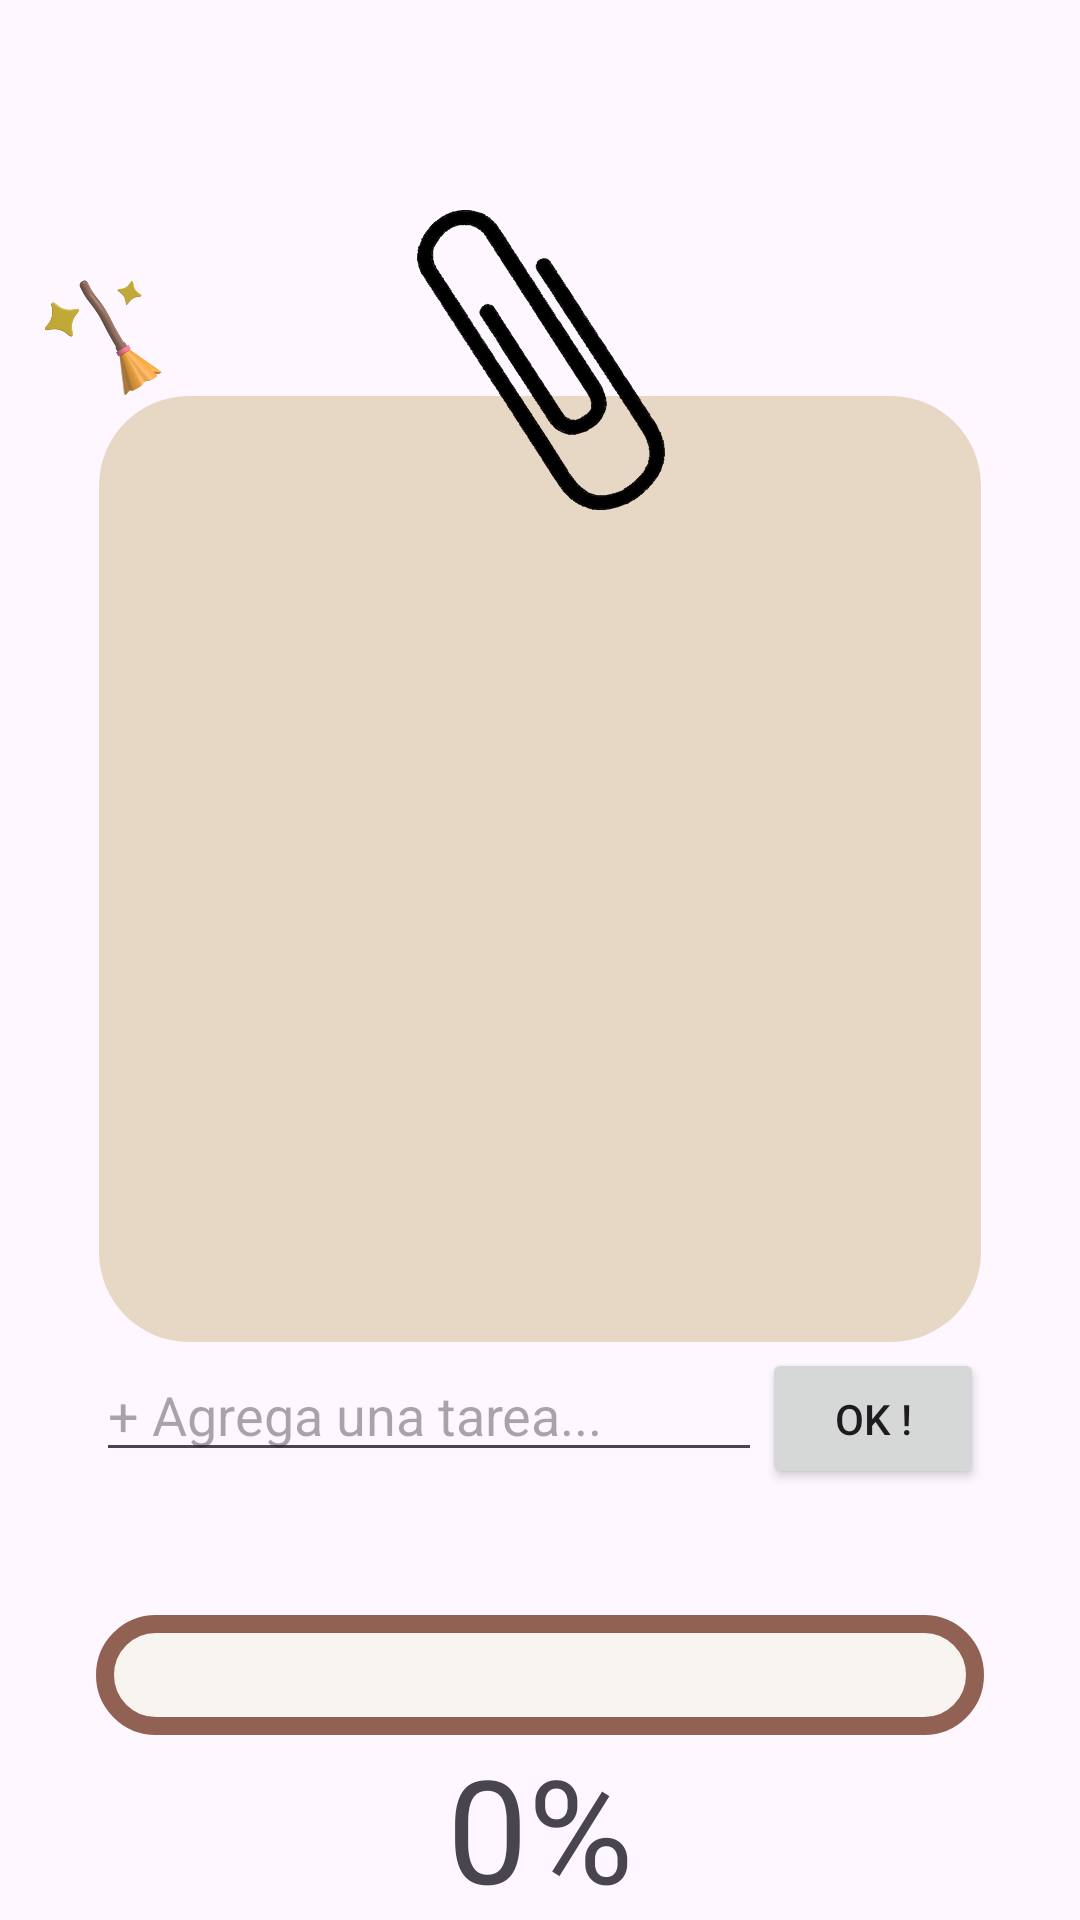

Icons on this 1080px x 1920px Android screen, each with the point to tap as (x=x, y=y):
limpiar: (x=103, y=337)
paperclip: (x=540, y=360)
